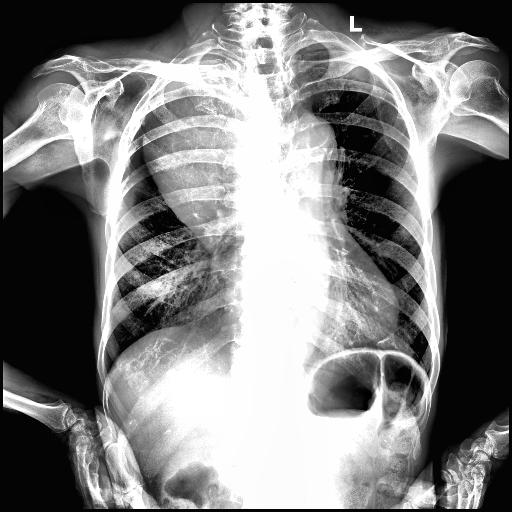0- Aortic enlargement: (289, 113, 339, 177)
1- Atelectasis: (136, 50, 264, 256)
4- Consolidation: (143, 42, 279, 250), (136, 50, 264, 256)
6- Infiltration: (136, 215, 218, 326)
7- Lung Opacity: (143, 42, 279, 250), (136, 50, 264, 256), (136, 215, 218, 326)
8- Nodule-Mass: (143, 42, 279, 250), (141, 54, 247, 254)
9- Other lesion: (252, 52, 292, 182)
